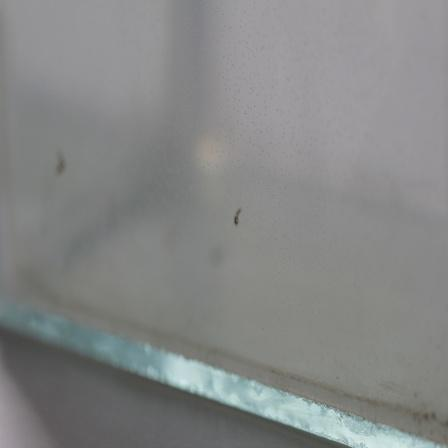Jentik-Nyamuk: (228, 202, 246, 229)
